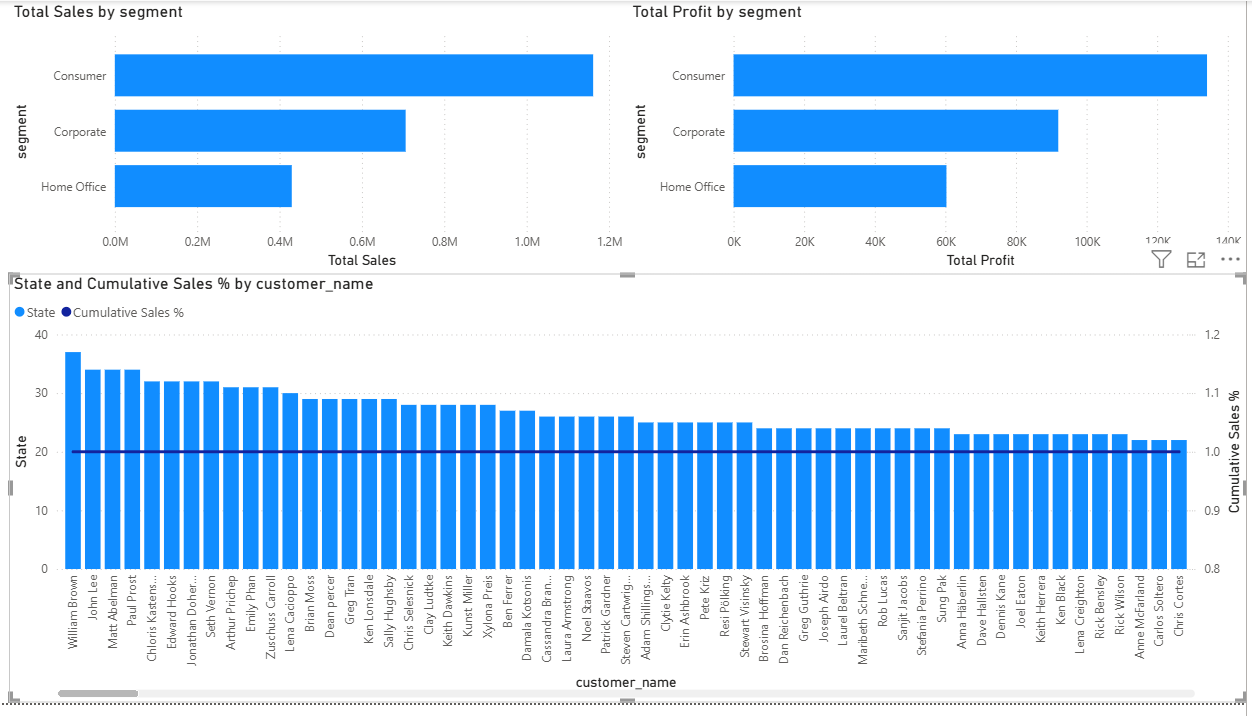

Layout of this report page (visuals, bound fields, positions):
{"tool":"powerbi","page":{"name":"Customer Segment Analysis","canvas":[1280,720],"ordinal":3},"visuals":[{"type":"barChart","fields":{"Category":["public superstore_orders.segment"],"Y":["public superstore_orders.Total Sales"]},"box":[10.3,0,635,279.7],"z":0},{"type":"barChart","fields":{"Category":["public superstore_orders.segment"],"Y":["public superstore_orders.Total Profit"]},"box":[645.3,0,635,279.7],"z":1},{"type":"lineClusteredColumnComboChart","fields":{"Category":["public superstore_orders.customer_name"],"Y":["public superstore_orders.state"],"Y2":["public superstore_orders.Cumulative Sales %"]},"box":[10.3,279.7,1270,440],"z":2}]}

Visuals, with their boxes on the page's 1280x720 design canvas (x1, y1, x2, y2). These are canvas units, not pixel positions in the 1252x716 screenshot, which may show the page scaled, cropped or inside an application window:
barChart - public superstore_orders.segment x public superstore_orders.Total Sales: left=10, top=0, right=645, bottom=280
barChart - public superstore_orders.segment x public superstore_orders.Total Profit: left=645, top=0, right=1280, bottom=280
lineClusteredColumnComboChart - public superstore_orders.customer_name x public superstore_orders.state: left=10, top=280, right=1280, bottom=720
